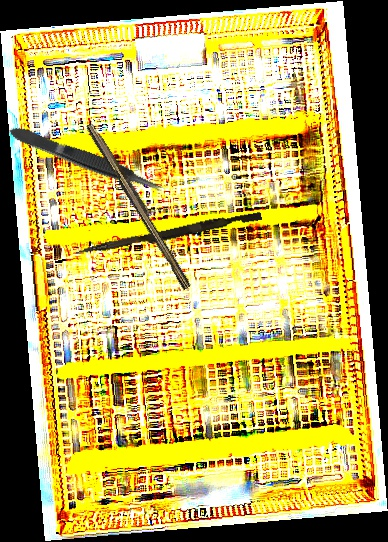Pusher: (74, 206, 263, 263)
Scalpel Handle: (82, 120, 197, 291)
Tissue Forceps: (6, 119, 168, 200)
